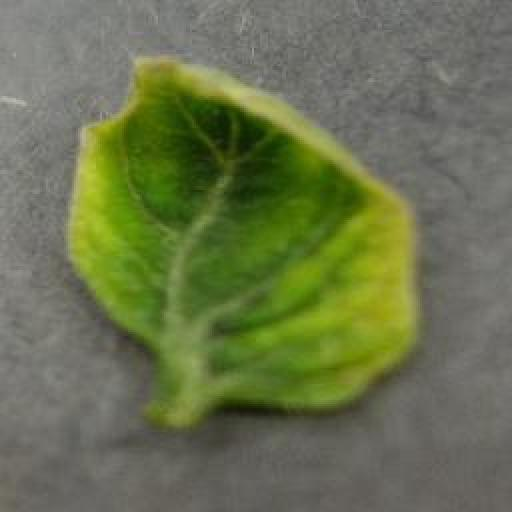disease_tomato: (64, 52, 419, 411)
